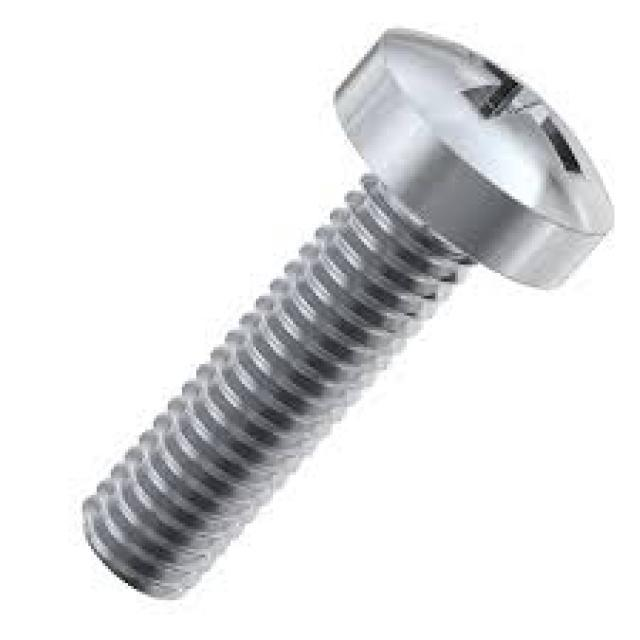Screw: (80, 28, 617, 603)
